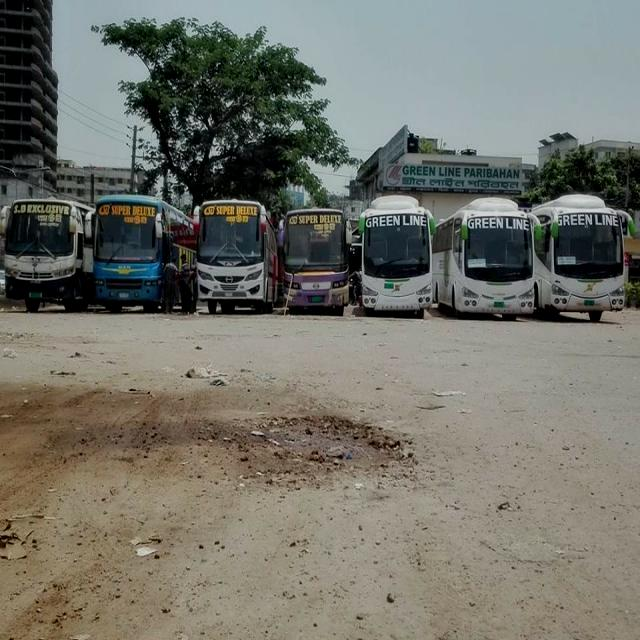bus: (435, 193, 543, 329), (88, 186, 194, 320), (540, 185, 638, 328), (2, 180, 86, 326), (192, 193, 282, 321), (353, 194, 441, 322), (282, 200, 356, 316)
